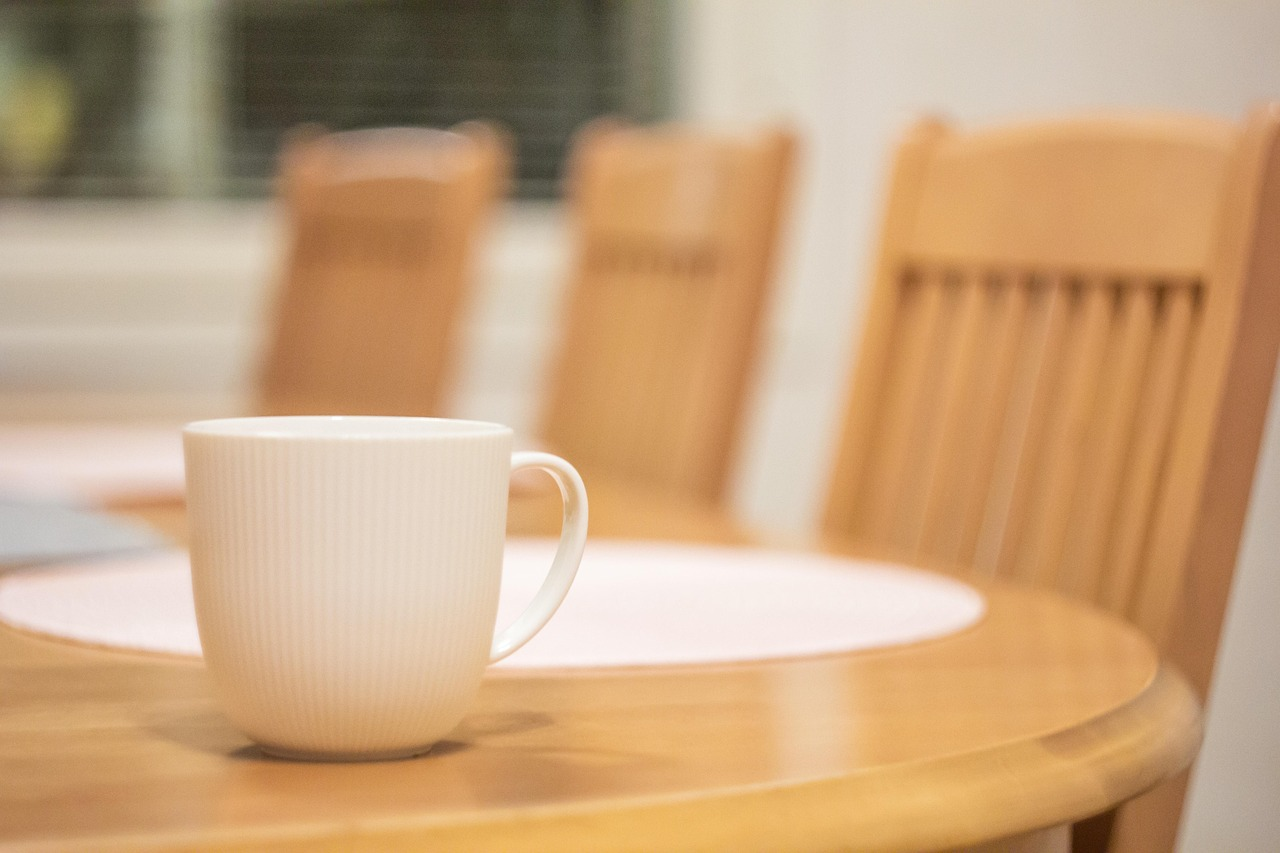mug: (157, 395, 595, 781)
